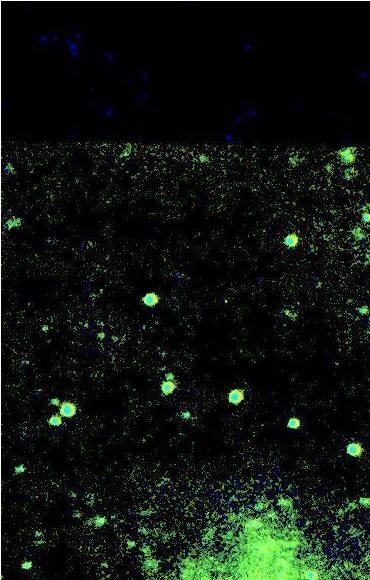star: (336, 143, 366, 173)
